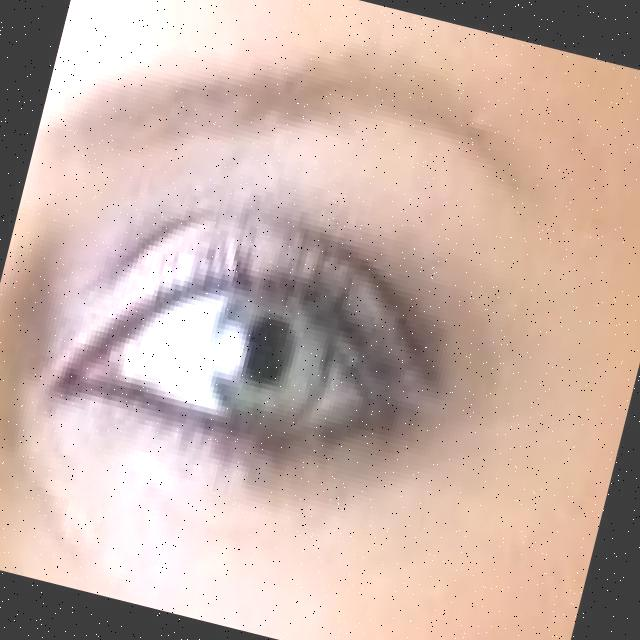Normal: (40, 226, 428, 502)
